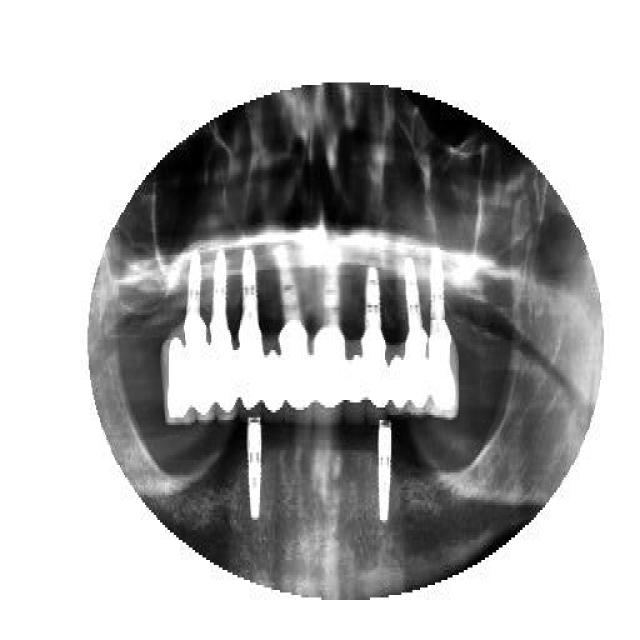Fillings: (159, 325, 191, 425), (261, 332, 285, 422), (345, 335, 365, 430), (388, 335, 408, 415)
Implant: (274, 242, 314, 422), (314, 240, 344, 428), (428, 242, 460, 418), (207, 250, 235, 420), (184, 250, 208, 428), (240, 252, 266, 412), (364, 265, 390, 417), (405, 252, 427, 418), (376, 420, 395, 525), (246, 415, 264, 525)
